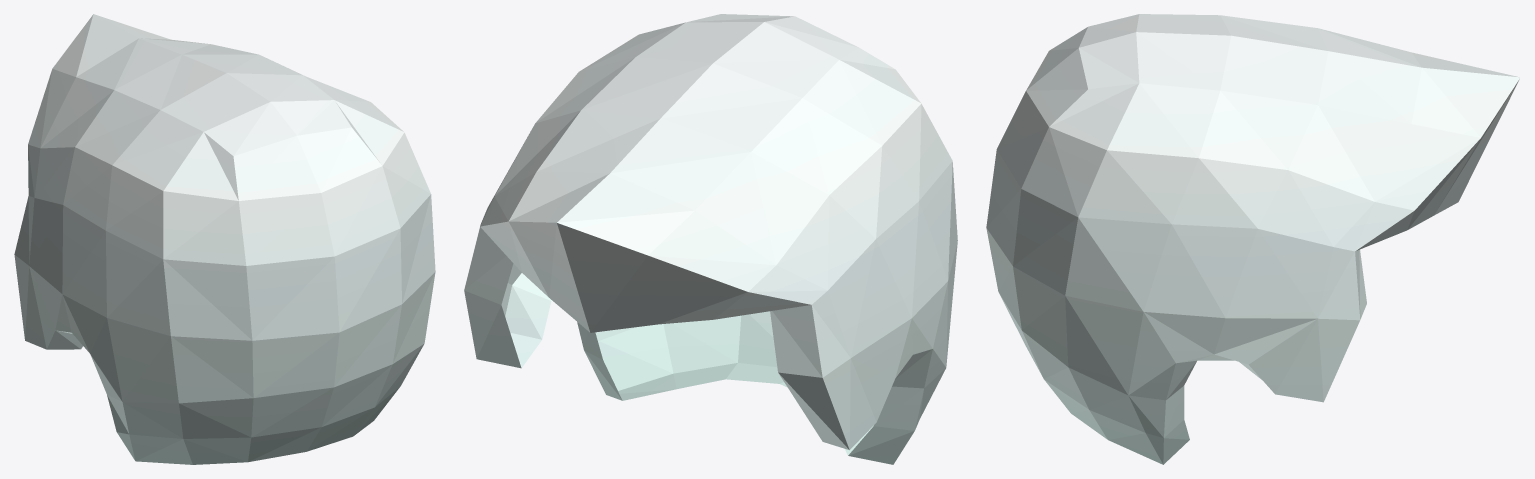
Rendered from CharSkyKid_Hair_Buzz.glb.
3 renders of one model, left to right at view 1: azimuth 30°, elevation 25°; view 2: azimuth 150°, elevation 25°; view 3: azimuth 270°, elevation 25°, orthographic. The views are drawn at different scales.
Visible parts, largest first — view 1: CharSkyKid_Hair_Buzz; view 2: CharSkyKid_Hair_Buzz; view 3: CharSkyKid_Hair_Buzz.
Boxes of the visible parts, <box> form: CharSkyKid_Hair_Buzz: <box>14,14,435,464</box>; CharSkyKid_Hair_Buzz: <box>464,14,957,464</box>; CharSkyKid_Hair_Buzz: <box>986,14,1520,464</box>.
Bounding box in the file's own units: 2.29 × 2.22 × 2.92.
Materials: 1 (1 with a texture image).
